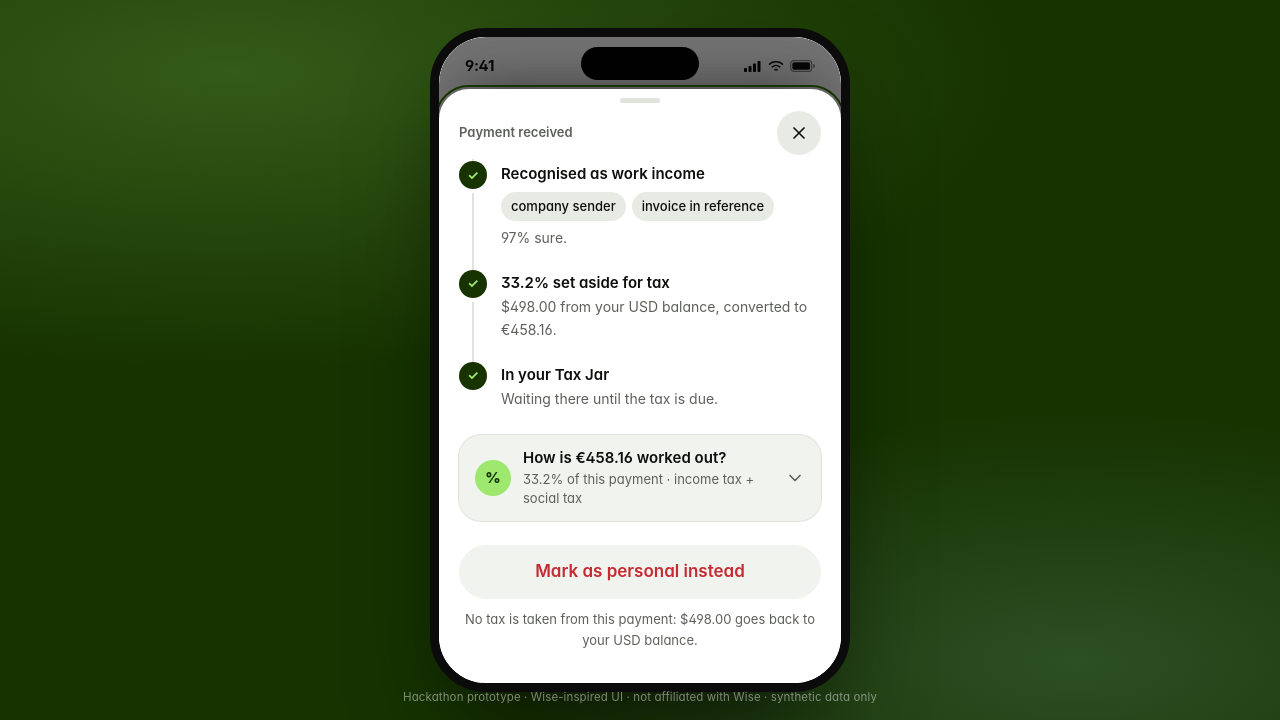
looks the same in a country with no exact split: same rows, "On your return" for the amounts
The image size is (1280, 720).
(page scrolled)
Step 1. Click the button "worked out?" → (640, 478), box [459,435,821,521]
(page scrolled)
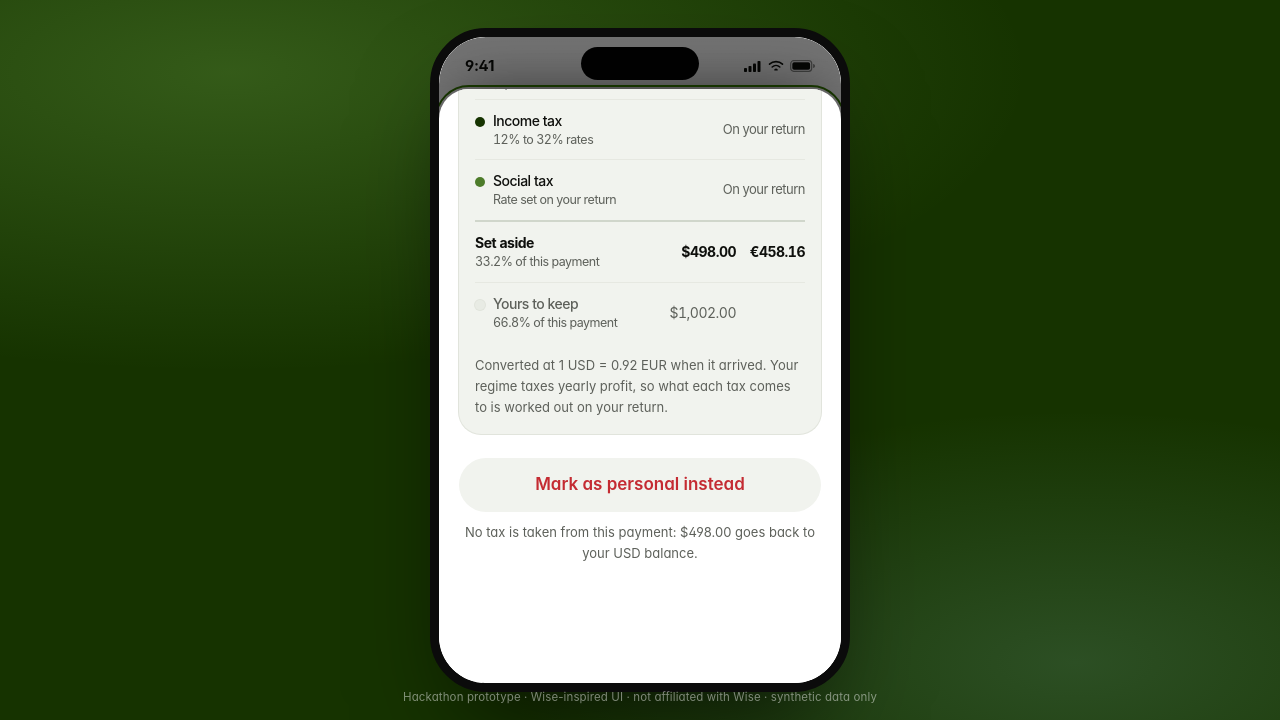
Check: the number of rows is 5
Check: the row "Income tax 12% to 32% rates On your return" is shown, box [475,99,805,160]
Check: the row "Social tax Rate set on your return On your return" is shown, box [475,160,805,221]
